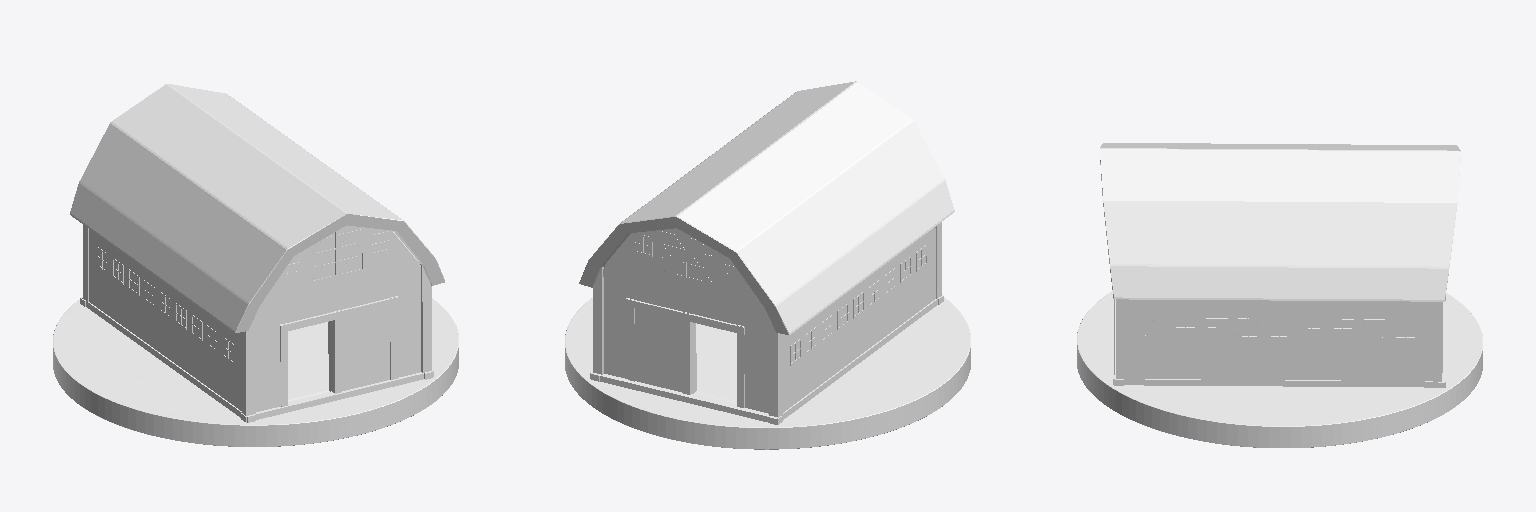
File: barn.obj
3 views of the same model, side by side, from view 1: azimuth 30°, elevation 25°; view 2: azimuth 150°, elevation 25°; view 3: azimuth 270°, elevation 25° (orthographic).
Visible parts, largest first — view 1: 20955_Barn_v2; view 2: 20955_Barn_v2; view 3: 20955_Barn_v2.
Boxes of the visible parts, x1=… form: 20955_Barn_v2: x1=53, y1=84, x2=458, y2=446; 20955_Barn_v2: x1=565, y1=81, x2=970, y2=449; 20955_Barn_v2: x1=1077, y1=143, x2=1482, y2=447.
Bounding box in the file's own units: 9.98 × 5.85 × 9.98.